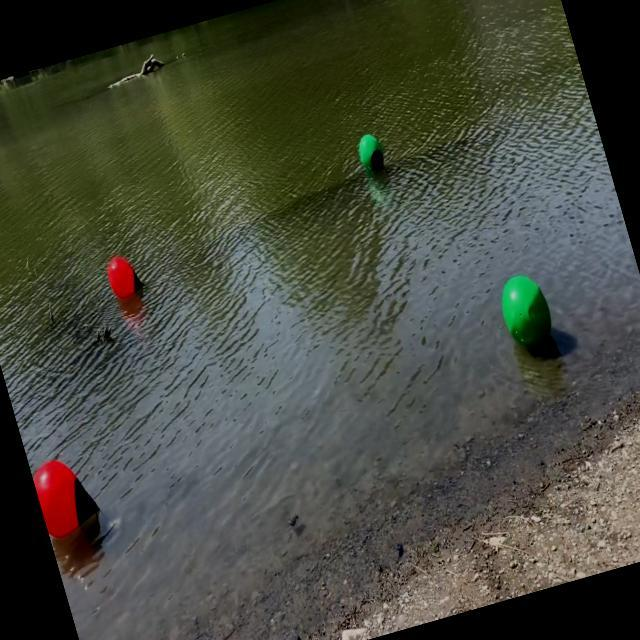buoy: (30, 452, 105, 540), (494, 266, 558, 354), (102, 252, 144, 302), (354, 132, 386, 172)
